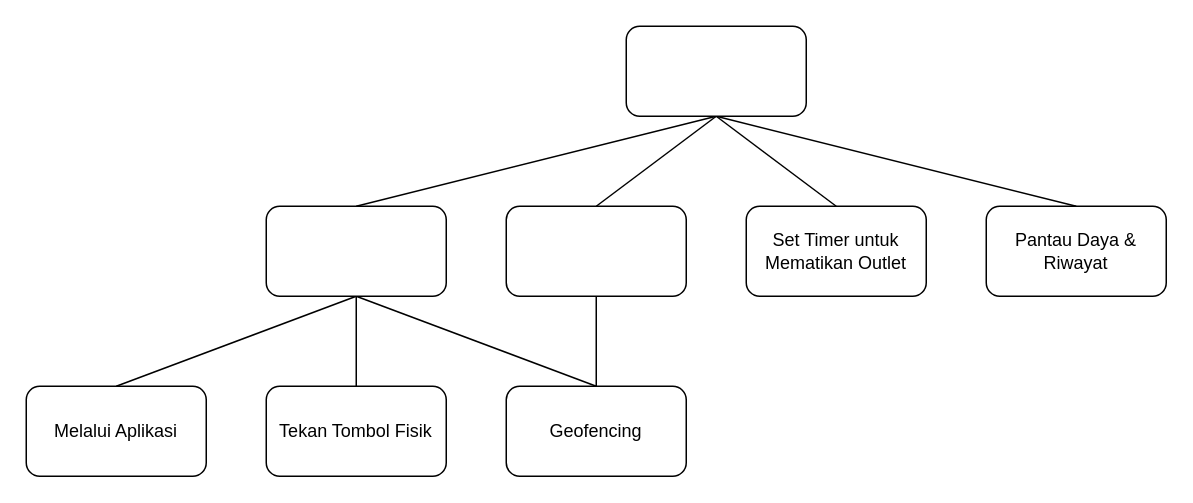
Some shapes in this 1193 by 503 pixel diagram are drawn without their labels. The centre of each missing label's shape, as x and y in pixels:
Kontrol Outlet (ON/OFF): (x=355, y=250)
Terima Notifikasi: (x=595, y=250)
User: (x=715, y=70)
